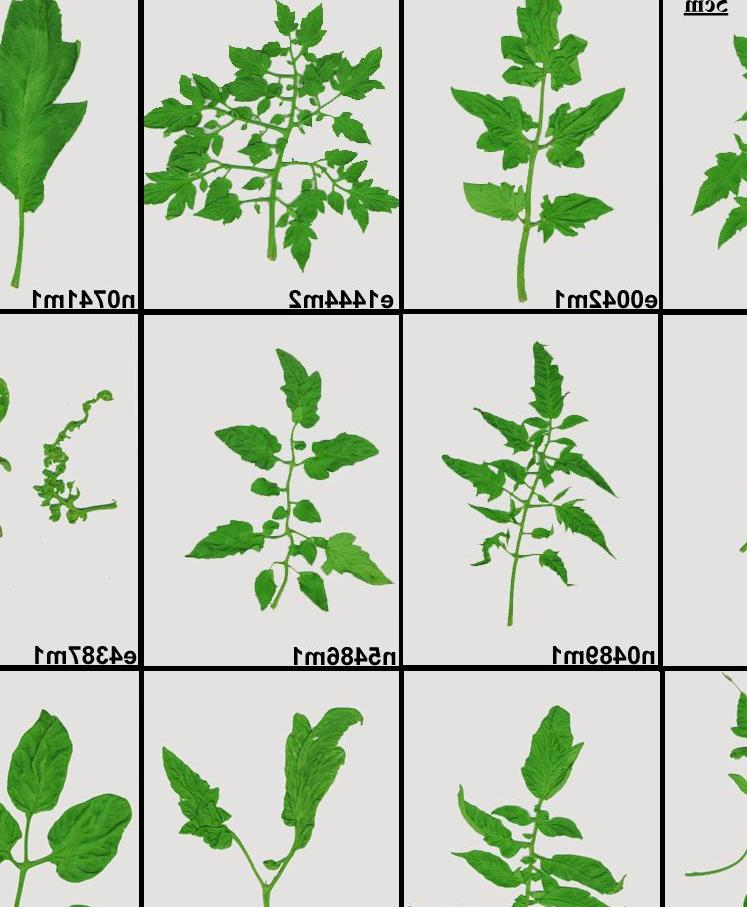Tomato leaf: (0, 0, 110, 217), (504, 0, 587, 94), (547, 86, 630, 172), (451, 79, 538, 160), (447, 182, 541, 234), (518, 331, 573, 419), (281, 332, 324, 437), (205, 423, 294, 472)
